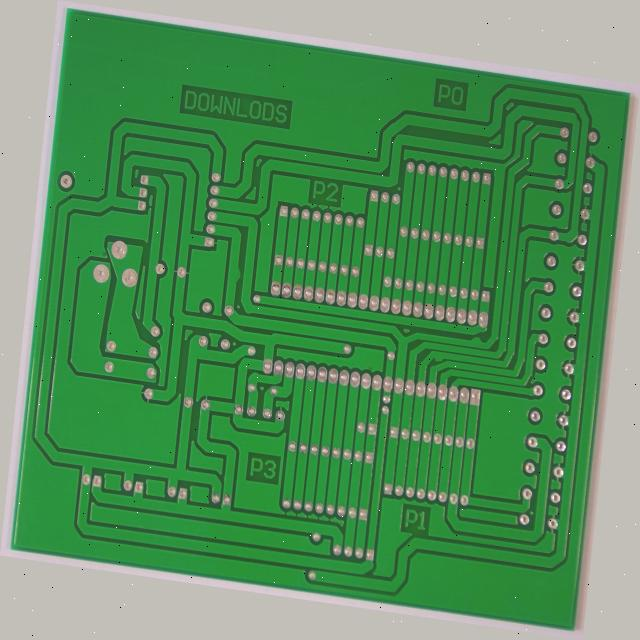spur: (220, 268, 230, 296), (481, 311, 502, 324), (445, 339, 460, 350)
